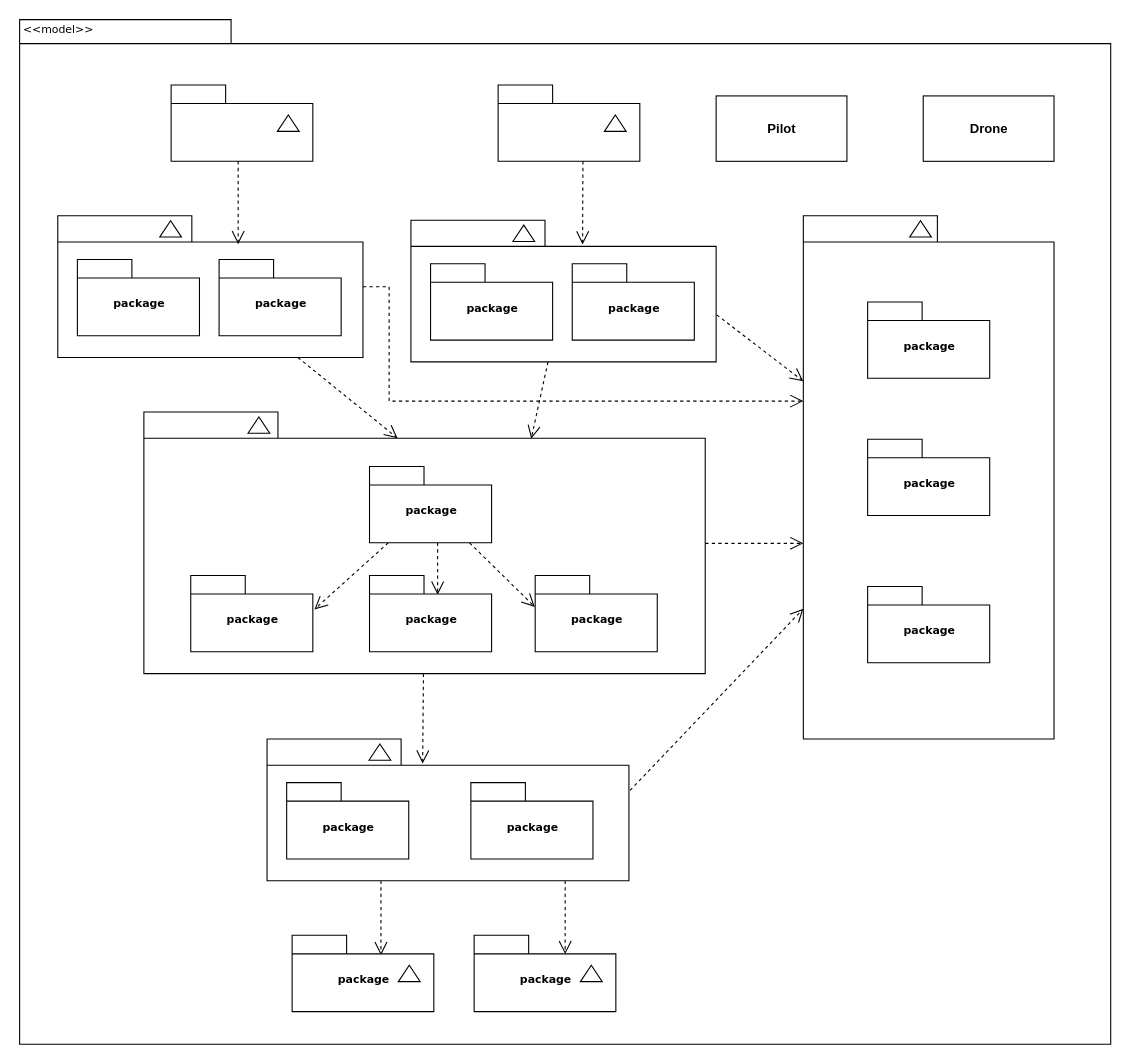
The diagram is 1129 pixels wide and 1063 high, and some of its shapes have lost their labels. Here are the shapes that lost their labels. From the top down, the box of each, then its label:
(170, 84, 313, 161): Store
(497, 84, 640, 161): Customer
